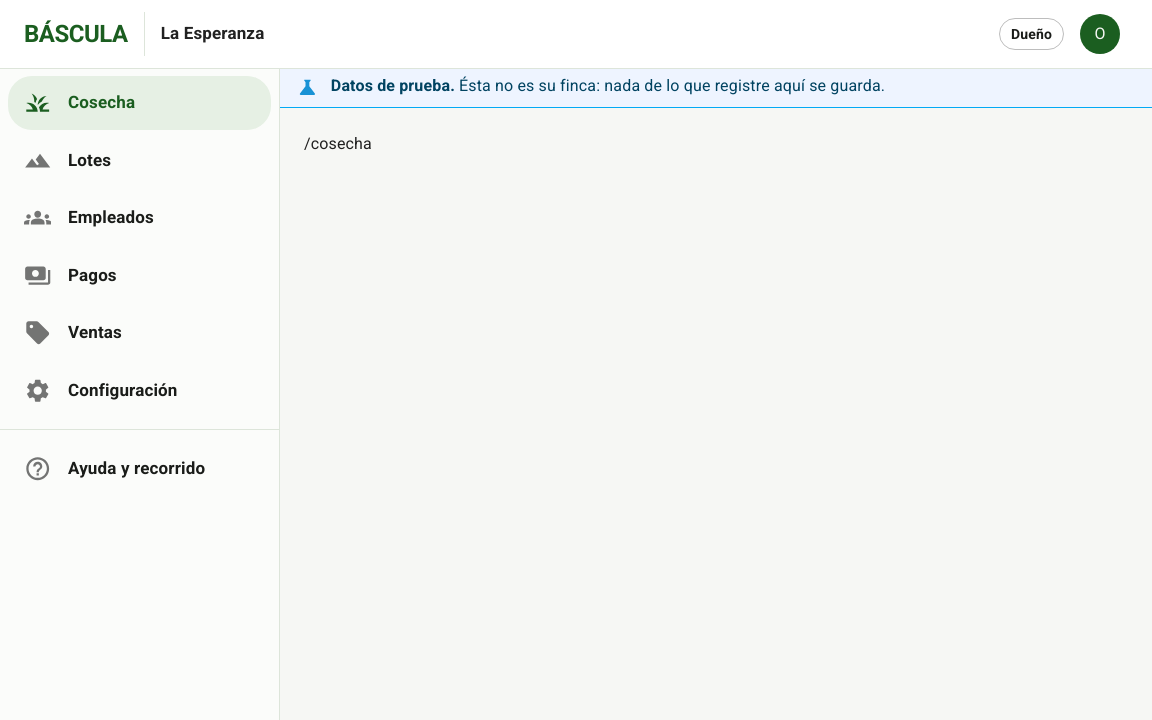
Test: the account menu › signs out and goes to the login
Click the button named "Cuenta".
click(1100, 34)  # box [1072, 6, 1128, 62]
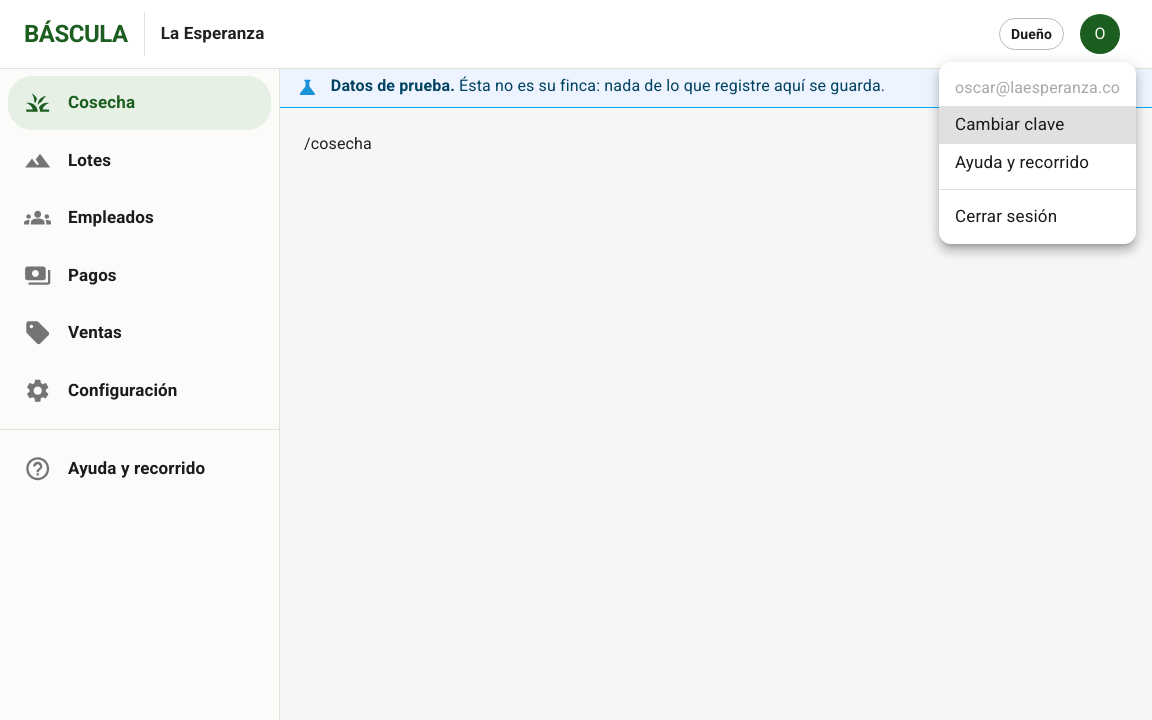
Click the menu item "Cerrar sesión".
click(1006, 216)  # box [955, 206, 1057, 226]
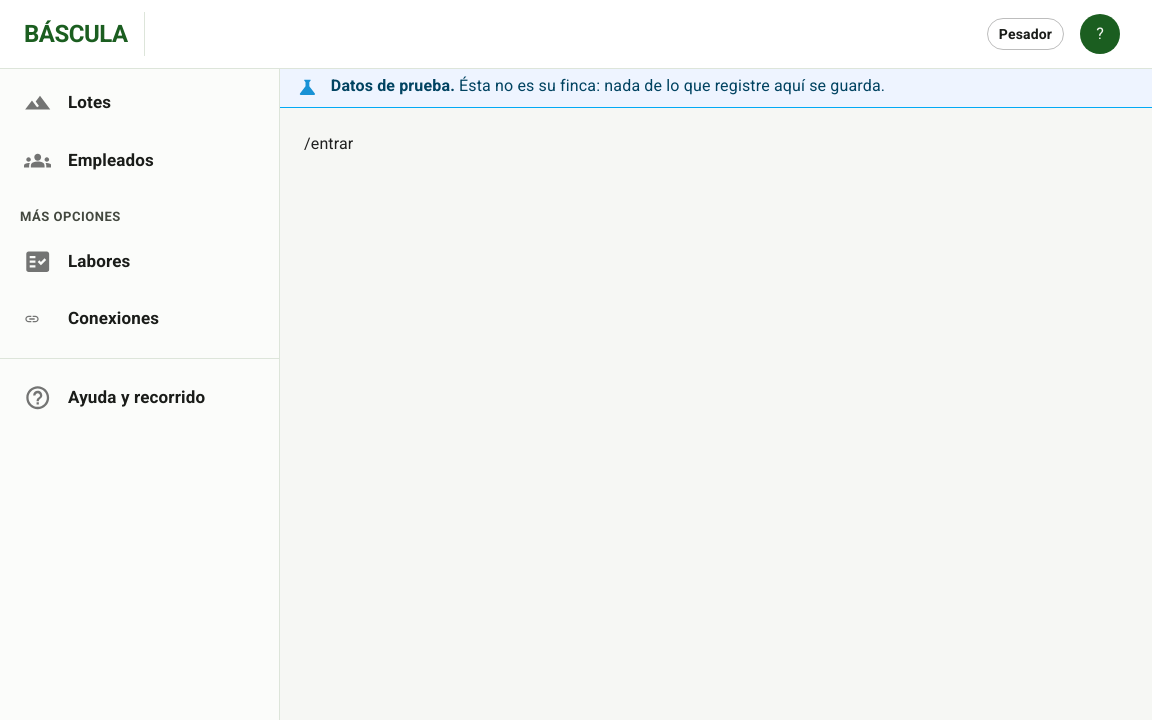
Now the text with test id "where" reads "/entrar", box [304, 134, 354, 153]
